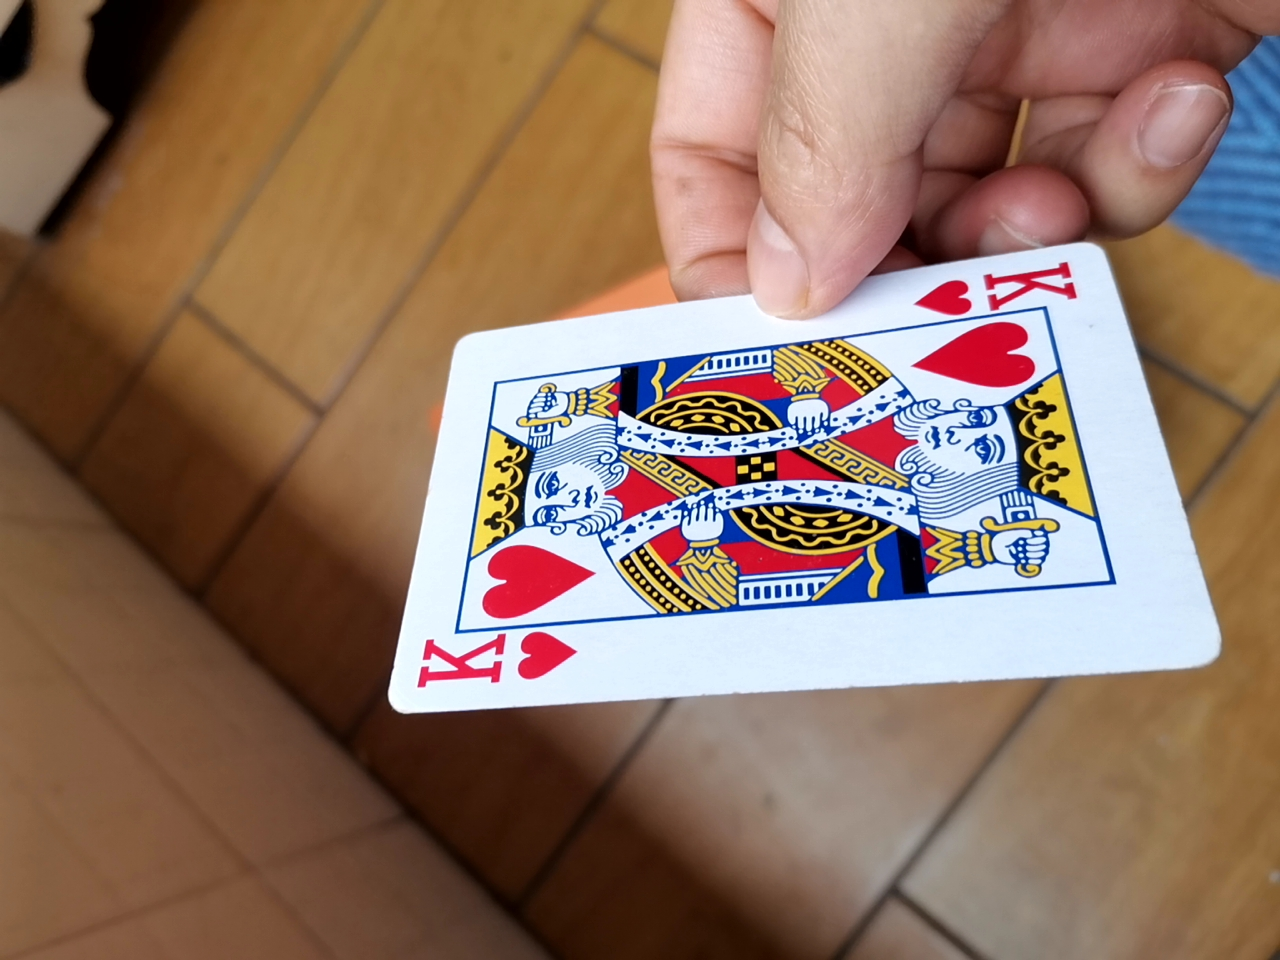hx k: (366, 258, 1212, 717)
